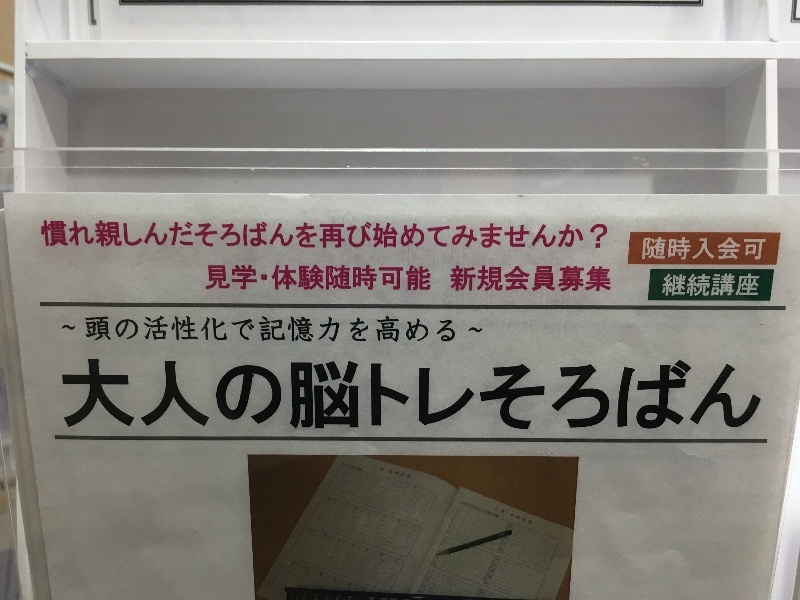text: (65, 360, 80, 431), (81, 360, 96, 431), (97, 360, 112, 431), (113, 360, 128, 431), (129, 360, 144, 431), (145, 360, 160, 431), (161, 360, 176, 431), (177, 360, 192, 431), (193, 360, 208, 431), (209, 360, 224, 431), (225, 360, 240, 431), (241, 360, 256, 431), (257, 360, 272, 431), (273, 360, 288, 431), (289, 360, 304, 431), (305, 360, 320, 431), (321, 360, 336, 431), (337, 360, 352, 431), (353, 360, 368, 431), (369, 360, 384, 431), (385, 360, 400, 431), (401, 360, 416, 431), (417, 360, 432, 431), (433, 360, 448, 431), (449, 360, 464, 431), (465, 360, 480, 431), (481, 360, 496, 431), (497, 360, 512, 431), (513, 360, 528, 431), (529, 360, 544, 431), (545, 360, 560, 431), (561, 360, 576, 431), (577, 360, 592, 431), (593, 360, 608, 431), (609, 360, 624, 431), (625, 360, 640, 431), (641, 360, 656, 431), (657, 360, 672, 431), (673, 360, 688, 431), (689, 360, 704, 431), (705, 360, 720, 431), (721, 360, 736, 431), (737, 360, 752, 431), (753, 360, 764, 431), (209, 261, 224, 291), (225, 261, 240, 291), (241, 261, 256, 291), (257, 261, 272, 291), (273, 261, 288, 291), (289, 261, 304, 291), (305, 261, 320, 291), (321, 261, 336, 291), (337, 261, 352, 291), (353, 261, 368, 291), (369, 261, 384, 291), (385, 261, 400, 291), (401, 261, 416, 291), (49, 221, 64, 250), (65, 221, 80, 250), (81, 221, 96, 250), (97, 221, 112, 250), (113, 221, 128, 250), (129, 221, 144, 250), (145, 221, 160, 250), (161, 221, 176, 250), (177, 221, 192, 250), (193, 221, 208, 250), (209, 221, 224, 250), (225, 221, 240, 250), (241, 221, 256, 250), (257, 221, 272, 250), (273, 221, 288, 250), (289, 221, 304, 250), (305, 221, 320, 250), (321, 221, 336, 250), (337, 221, 352, 250), (353, 221, 368, 250), (369, 221, 384, 250), (385, 221, 400, 250), (401, 221, 416, 250), (417, 221, 432, 250), (433, 221, 448, 250), (449, 221, 464, 250), (465, 221, 480, 250), (481, 221, 496, 250), (497, 221, 512, 250), (513, 221, 528, 250), (529, 221, 544, 250), (545, 221, 560, 250), (561, 221, 576, 250), (577, 221, 592, 250), (593, 221, 608, 250), (417, 261, 431, 291), (465, 265, 480, 293), (481, 265, 496, 293), (497, 265, 512, 293), (513, 265, 528, 293), (529, 265, 544, 293), (545, 265, 560, 293), (561, 265, 576, 293), (577, 265, 592, 293), (593, 265, 608, 293), (65, 317, 80, 344), (81, 317, 96, 344), (97, 317, 112, 344), (113, 317, 128, 344), (129, 317, 144, 344), (145, 317, 160, 344), (161, 317, 176, 344), (177, 317, 192, 344), (193, 317, 208, 344), (209, 317, 224, 344), (225, 317, 240, 344), (241, 317, 256, 344), (257, 317, 272, 344), (273, 317, 288, 344), (289, 317, 304, 344), (305, 317, 320, 344), (321, 317, 336, 344), (337, 317, 352, 344), (353, 317, 368, 344), (369, 317, 384, 344), (385, 317, 400, 344), (401, 317, 416, 344), (417, 317, 432, 344), (433, 317, 448, 344), (449, 317, 464, 344), (465, 317, 480, 344), (450, 265, 464, 293), (657, 236, 672, 260), (673, 236, 688, 260), (689, 236, 704, 260), (705, 236, 720, 260), (721, 236, 736, 260), (737, 236, 752, 260), (673, 274, 688, 296), (689, 274, 704, 296), (705, 274, 720, 296), (721, 274, 736, 296), (737, 274, 752, 296), (753, 236, 766, 260), (644, 236, 656, 260), (39, 221, 48, 250), (663, 274, 672, 296), (753, 274, 760, 296), (62, 360, 64, 431), (481, 317, 484, 344), (609, 265, 611, 293), (62, 317, 64, 344)
